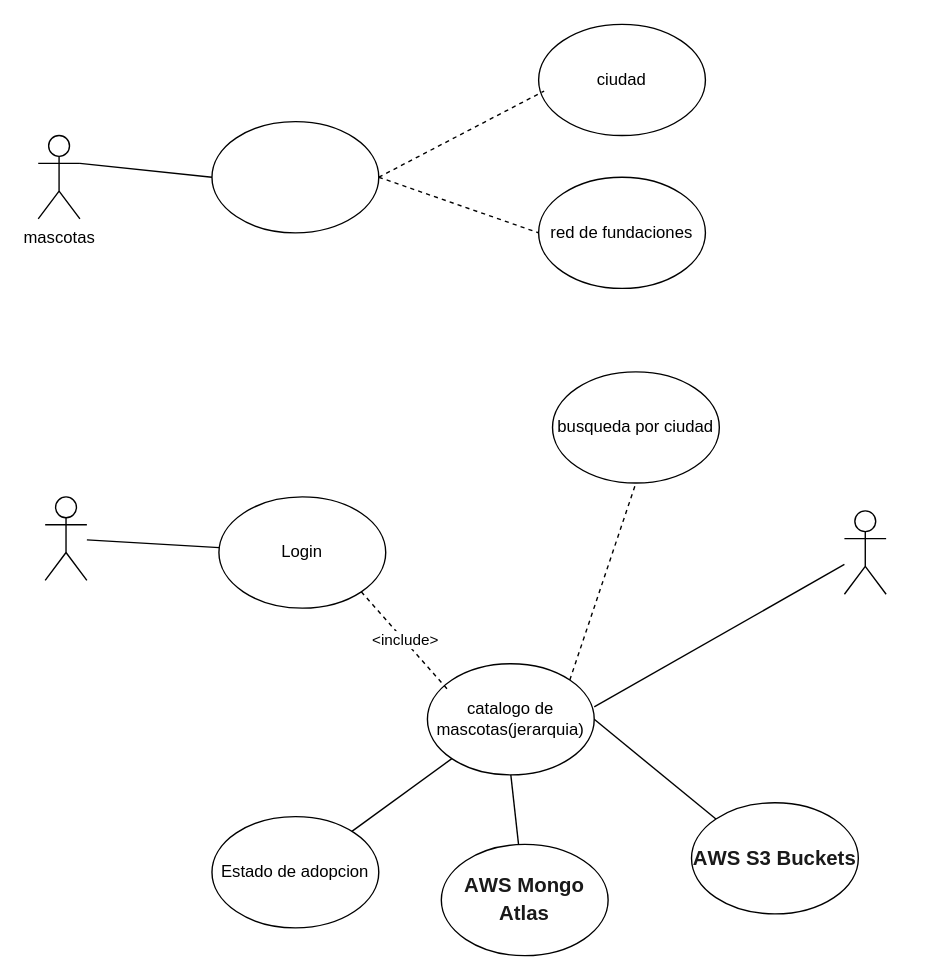
The diagram is 949 pixels wide and 980 high, and some of its shapes have lost their labels. The centre of each missing label's shape, as x and y in pixels:
clasificacion por: (295,176)
personal refugio: (864,551)
User: (65,538)
